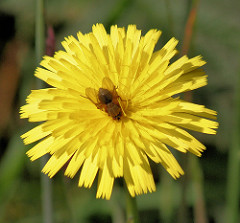dandelion: (15, 15, 224, 203)
